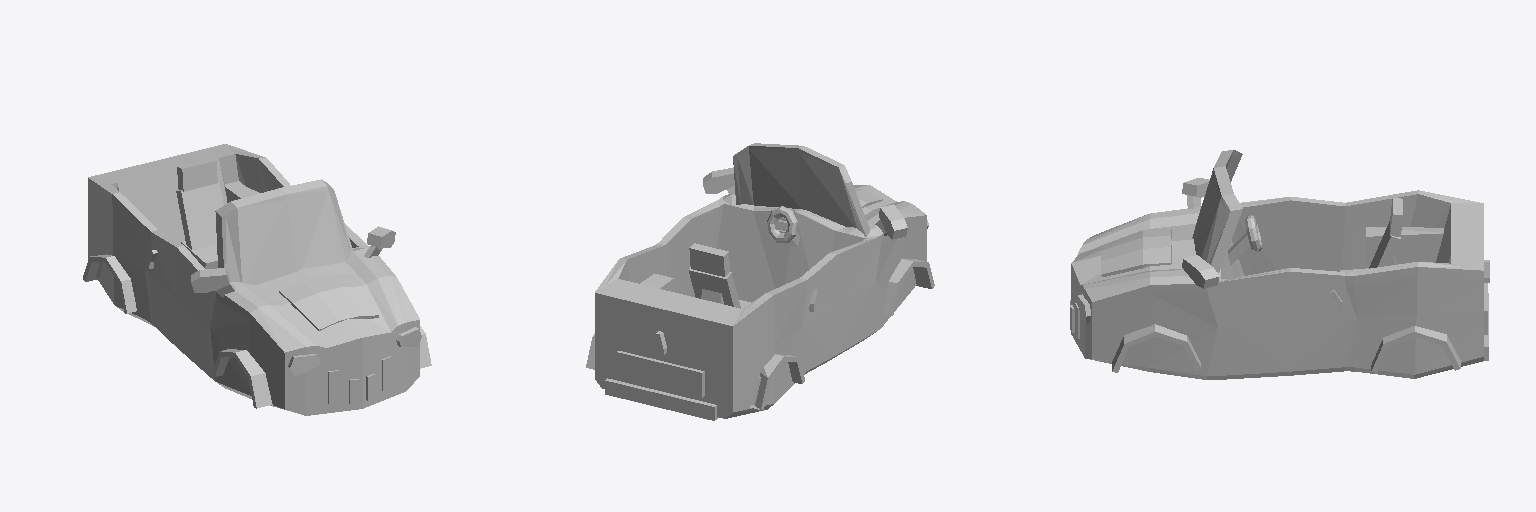
Rendered from Car_4.mtl.obj.
The picture shows the model from 3 angles: view 1: azimuth 30°, elevation 25°; view 2: azimuth 150°, elevation 25°; view 3: azimuth 270°, elevation 25°; orthographic projection.
Parts seen in each view (by area): view 1: Car_4; view 2: Car_4; view 3: Car_4.
Part boxes in pixels (x1,y1,x2,y2): Car_4: (83,144,431,415); Car_4: (586,143,934,420); Car_4: (1070,150,1489,379).
Bounding box in the file's own units: 195 × 161 × 347.